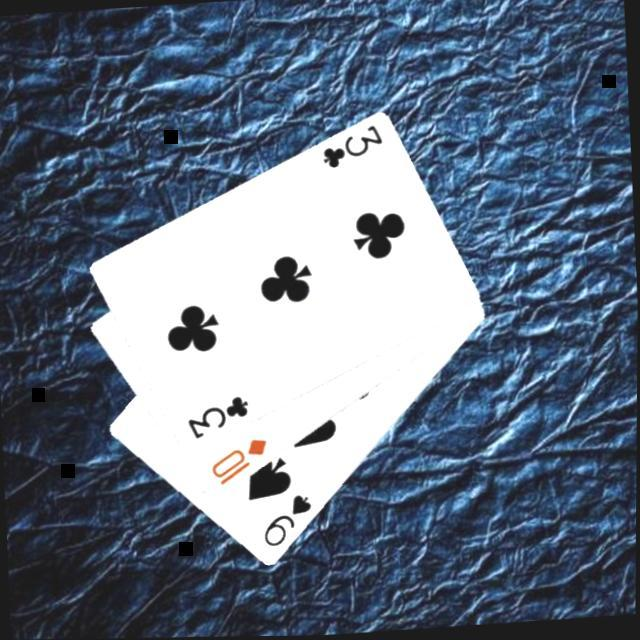10D: (205, 435, 272, 490)
3C: (316, 121, 386, 173), (182, 392, 252, 443)
9S: (257, 491, 316, 551)
